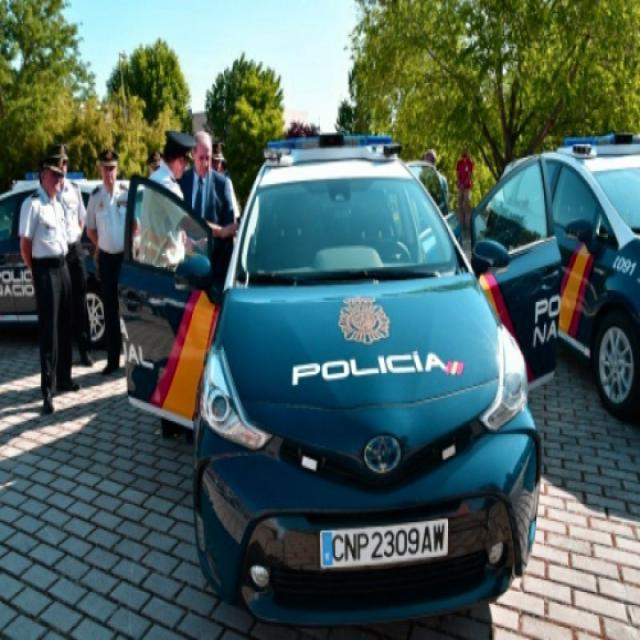License-Plate: (320, 516, 450, 569)
